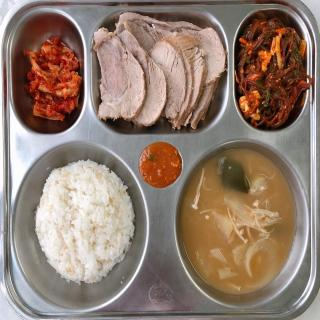Nasi: (33, 159, 137, 292)
